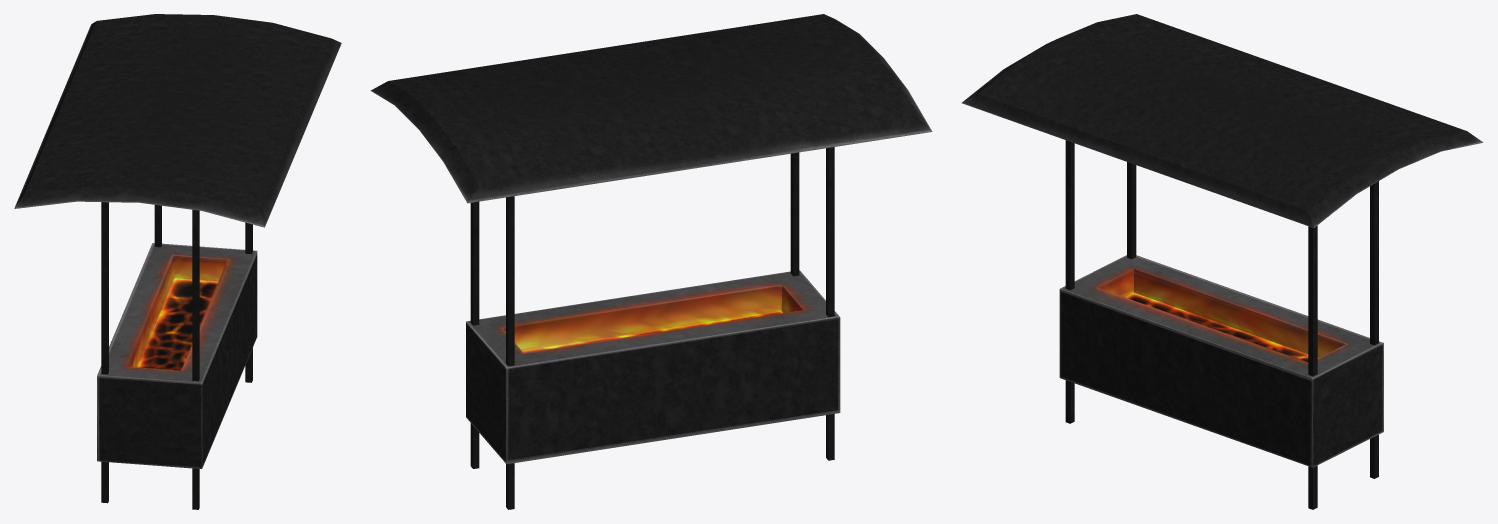
File: street_restaurant_mangal.FBX
3 views of the same model, side by side, from view 1: azimuth 30°, elevation 25°; view 2: azimuth 150°, elevation 25°; view 3: azimuth 270°, elevation 25° (orthographic). The views are drawn at different scales.
Parts seen in each view (by area): view 1: street_restaurant_mangal; view 2: street_restaurant_mangal; view 3: street_restaurant_mangal.
Part boxes in pixels (bbox=[...]): street_restaurant_mangal: bbox=[14, 14, 341, 509]; street_restaurant_mangal: bbox=[370, 14, 932, 509]; street_restaurant_mangal: bbox=[961, 14, 1483, 509].
Bounding box in the file's own units: 302 × 235 × 316.
